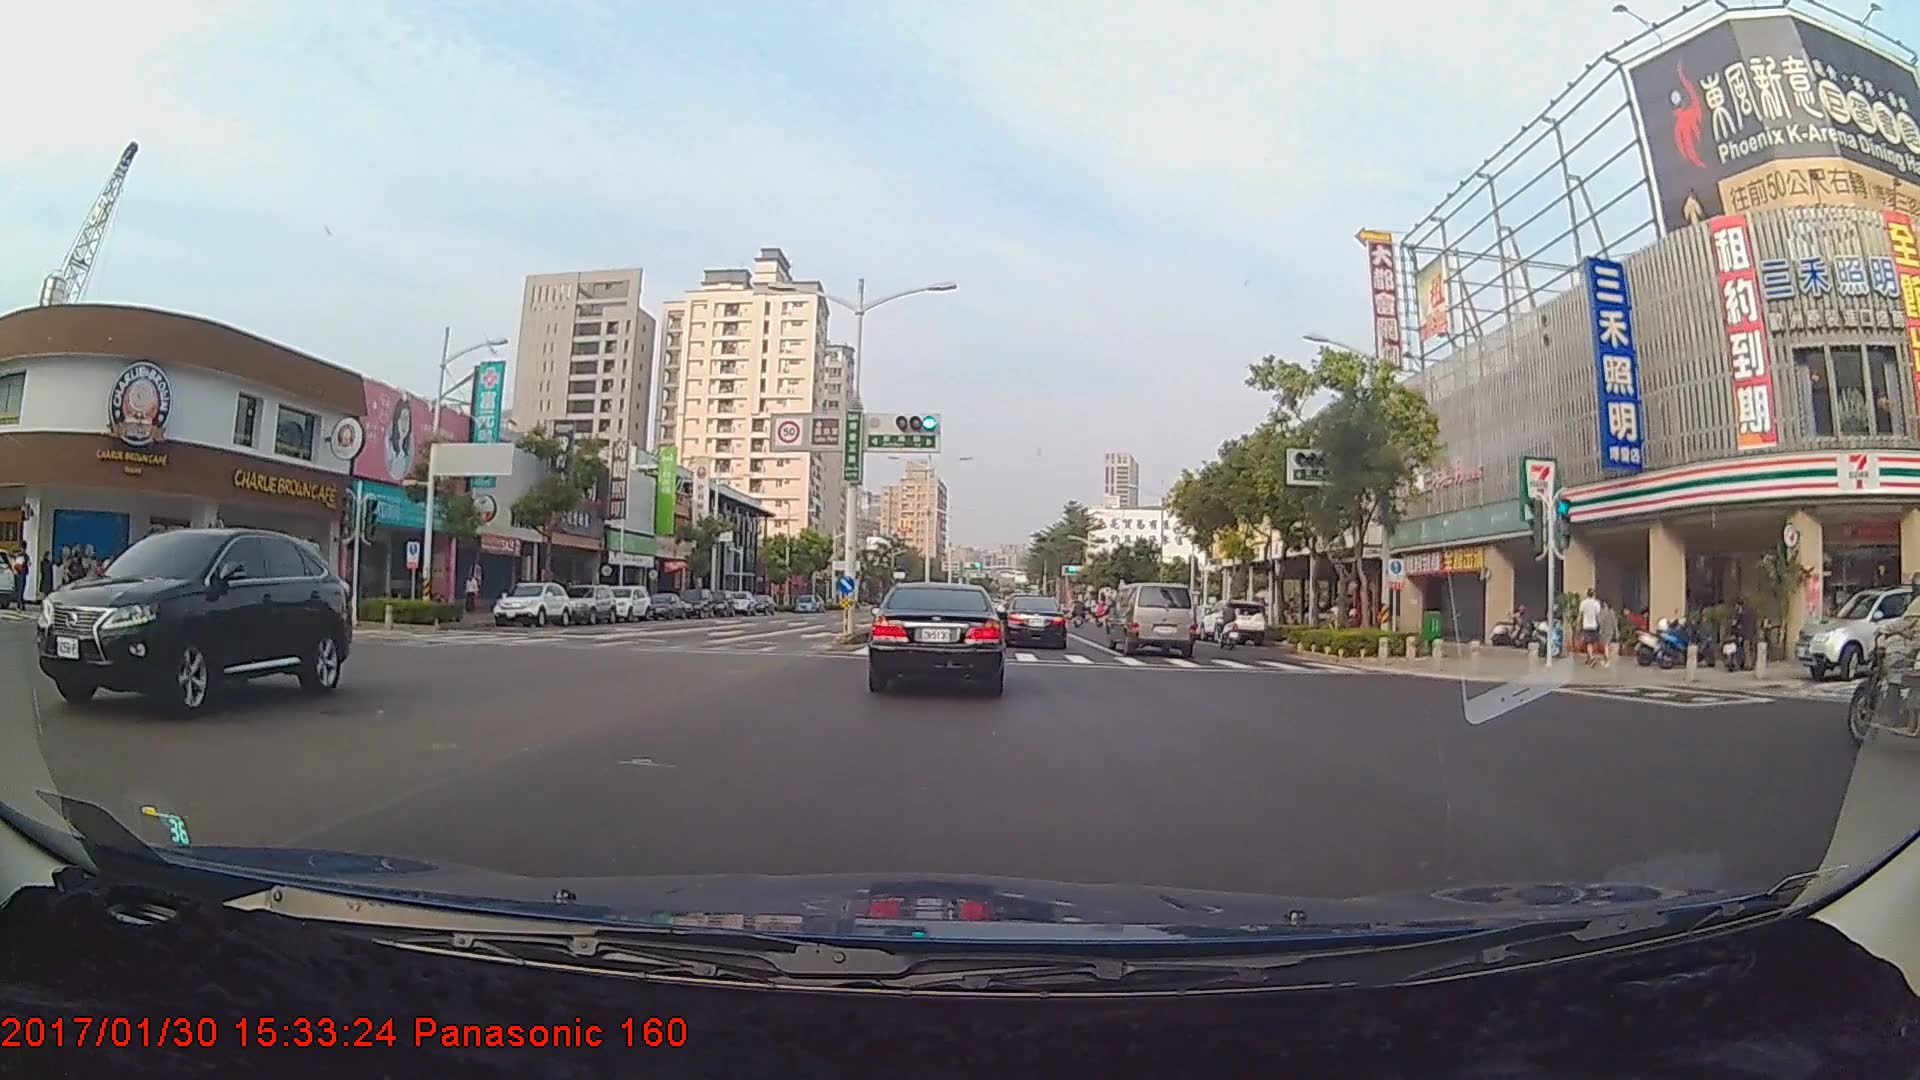pedestrian: (1576, 586, 1603, 662), (1599, 598, 1623, 672), (463, 572, 485, 618)
rider: (1211, 596, 1245, 648)
vehicle: (47, 521, 350, 712), (870, 579, 1004, 696), (1794, 582, 1920, 679), (1106, 582, 1195, 658), (489, 578, 574, 625), (998, 596, 1068, 652), (1205, 598, 1268, 647), (559, 583, 615, 624), (599, 585, 652, 623), (649, 591, 688, 622)
